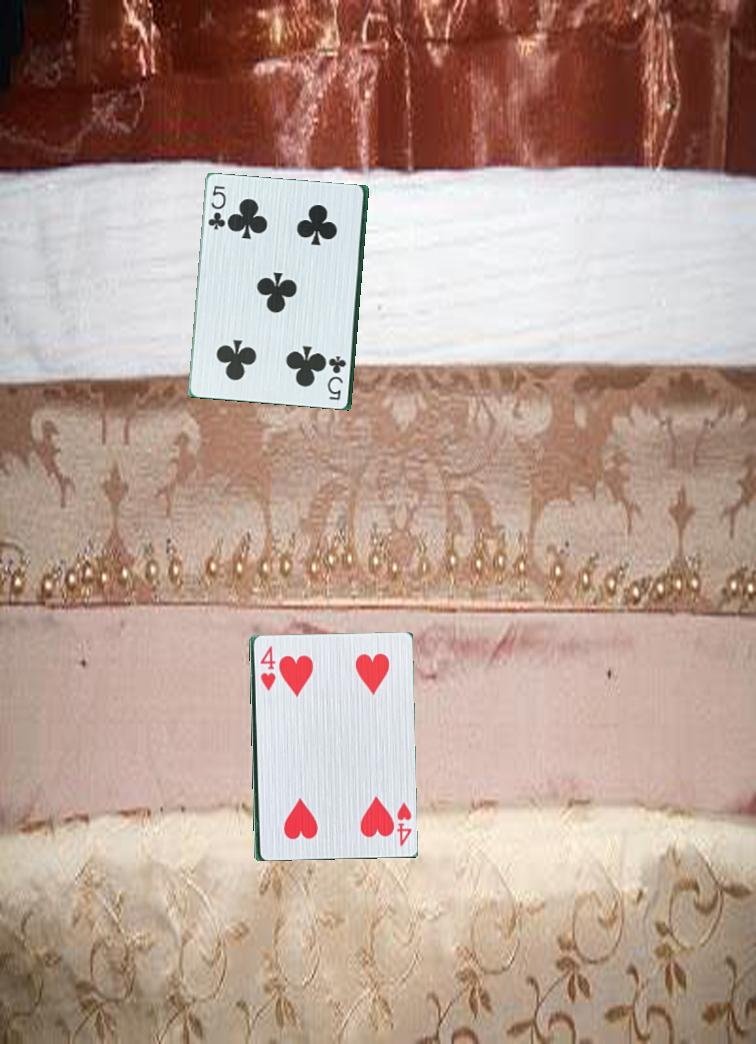4h: (390, 794, 414, 853), (256, 642, 276, 694)
5c: (203, 181, 229, 232), (325, 352, 349, 404)
